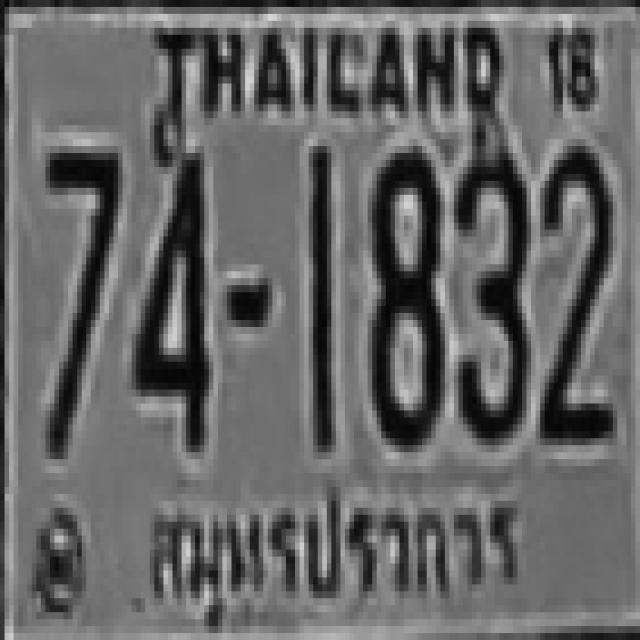1: (304, 146, 331, 445)
2: (536, 142, 608, 442), (538, 139, 610, 418)
3: (452, 146, 528, 438)
4: (132, 139, 204, 445)
7: (41, 146, 118, 452), (41, 149, 118, 421), (41, 146, 118, 355)
8: (368, 142, 440, 442)
SamutPrakan: (137, 492, 544, 638)
